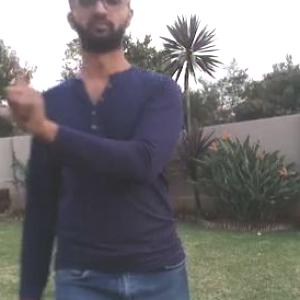land_hand: (1, 52, 45, 132)
